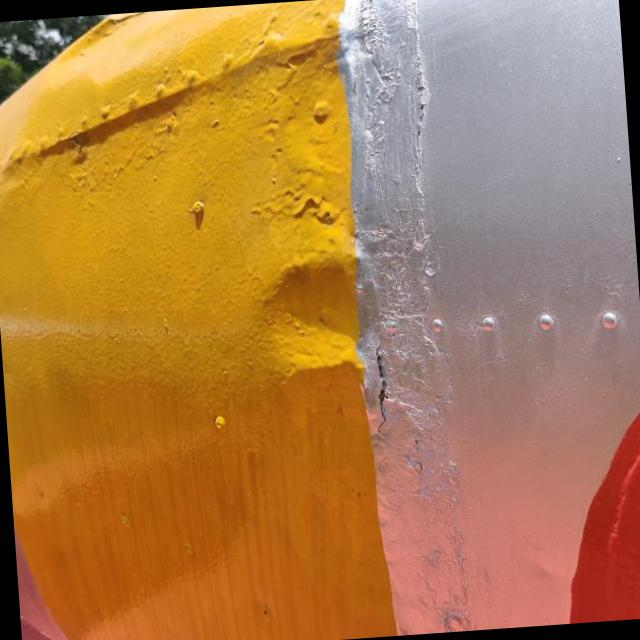Dent: (221, 199, 360, 394)
